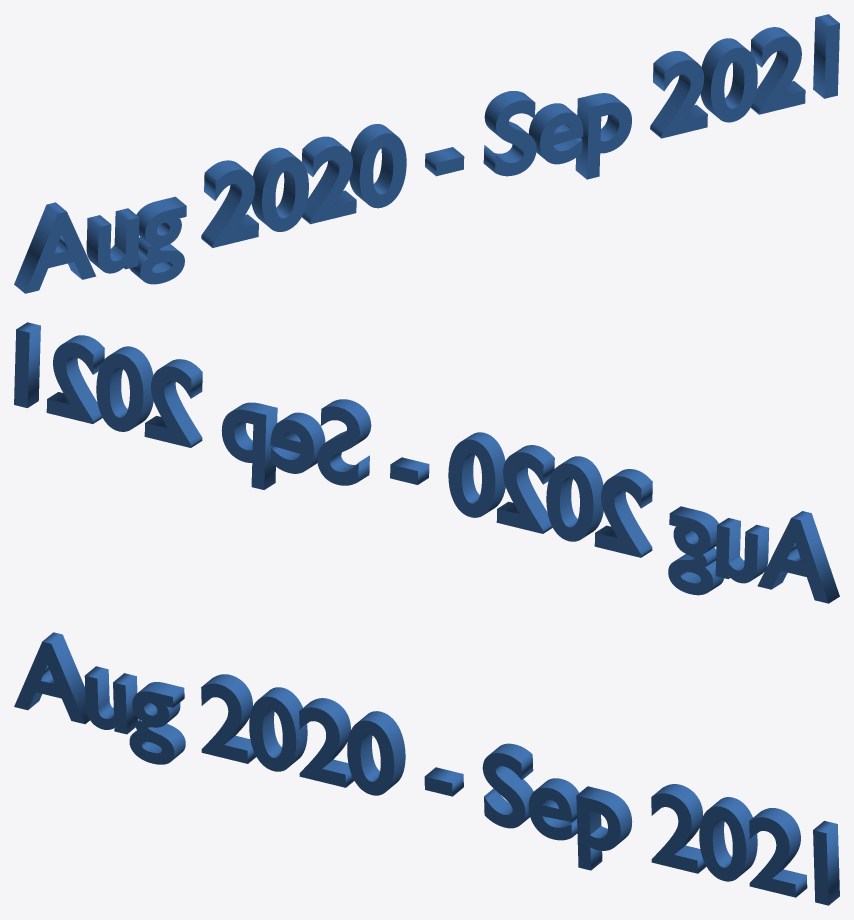
Rendered from aug20.glb.
3 renders of one model, top to bottom at view 1: azimuth 30°, elevation 25°; view 2: azimuth 150°, elevation 25°; view 3: azimuth 330°, elevation 25°, orthographic.
Parts seen in each view (by area): view 1: Text; view 2: Text; view 3: Text.
Part boxes in pixels (<box>): Text: <box>14,14,839,293</box>; Text: <box>14,322,839,603</box>; Text: <box>14,632,839,905</box>.
Size of the model in its own units: 8.32 by 0.9703 by 0.2505.
